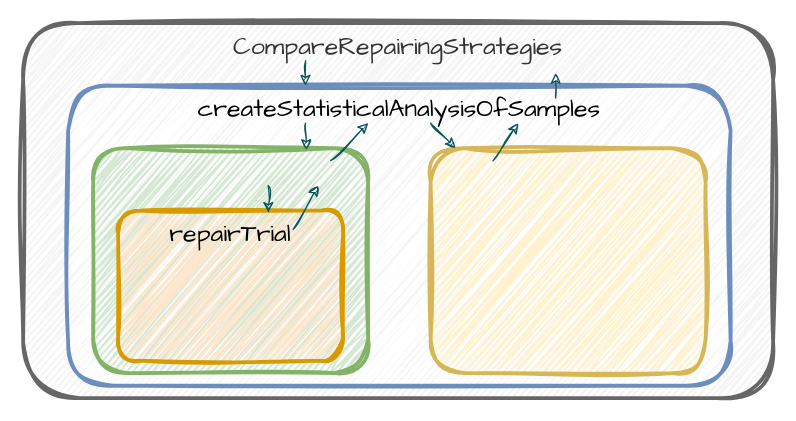
The diagram is 796 pixels wide and 421 high, and some of its shapes have lost their labels. Here are the shapes that lost their labels. From the top down, the box of each, then its label:
(91, 146, 369, 374): executeSingleStrategy
(428, 146, 707, 374): getStandardDeviation
